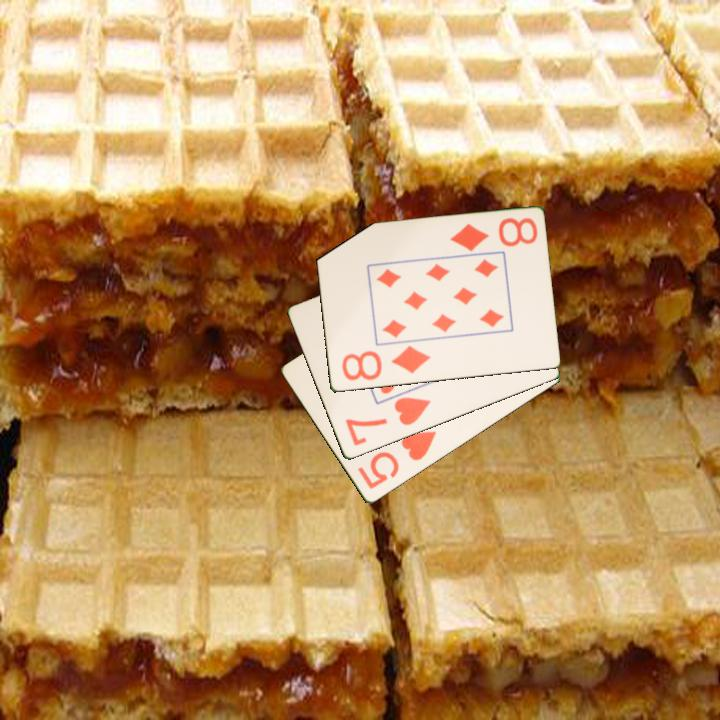5h: (354, 428, 439, 493)
7h: (341, 394, 434, 449)
8d: (338, 342, 433, 384), (446, 214, 540, 255)
